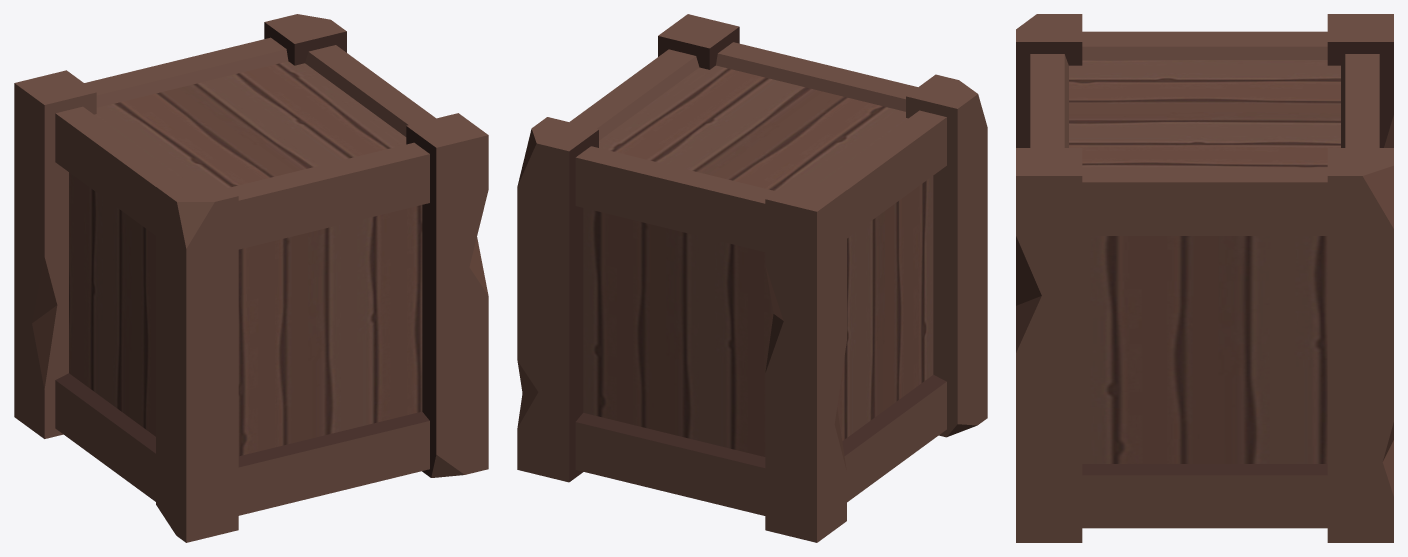
File: Crate.fbx
3 views of the same model, side by side, from view 1: azimuth 30°, elevation 25°; view 2: azimuth 150°, elevation 25°; view 3: azimuth 270°, elevation 25° (orthographic). The views are drawn at different scales.
Parts seen in each view (by area): view 1: Crate_Box; view 2: Crate_Box; view 3: Crate_Box.
Boxes of the visible parts, x1,y1,x2,y2 form: Crate_Box: (14,14,488,542); Crate_Box: (517,14,987,542); Crate_Box: (1016,14,1393,542).
Size of the model in its own units: 82.7 by 87.34 by 81.47.
